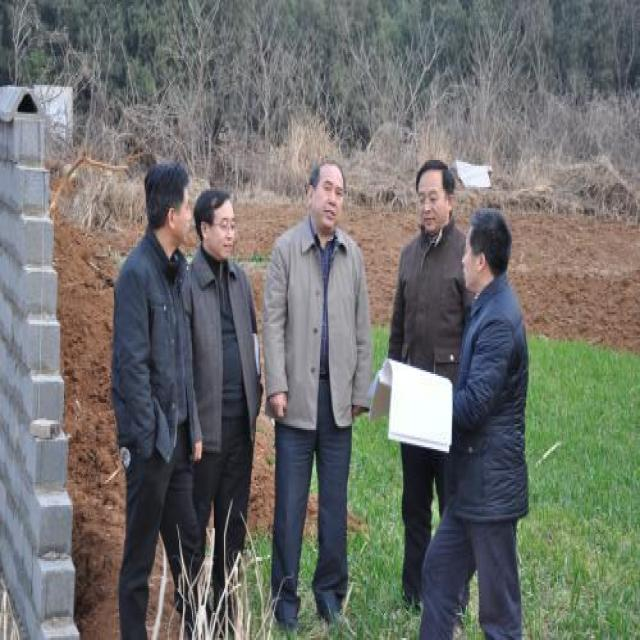no-helmet: (462, 206, 516, 297), (143, 154, 192, 254), (191, 175, 239, 258), (412, 154, 457, 235), (306, 150, 348, 234)
